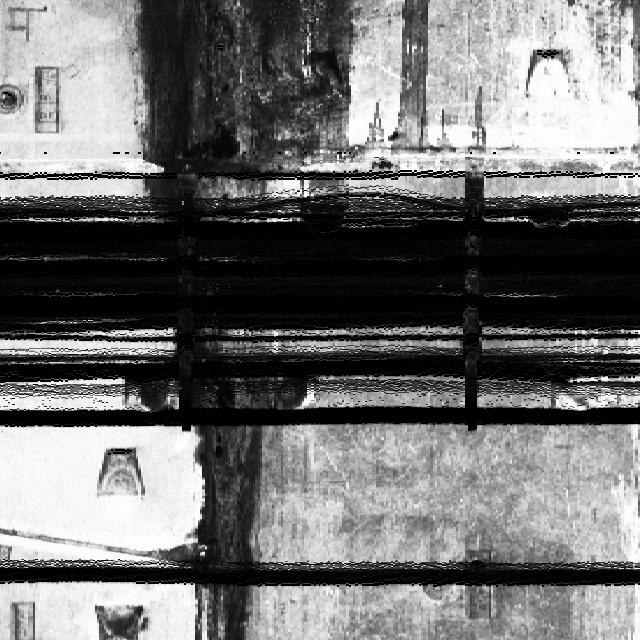leakage: (117, 367, 307, 639), (124, 0, 352, 202), (388, 0, 440, 154)
